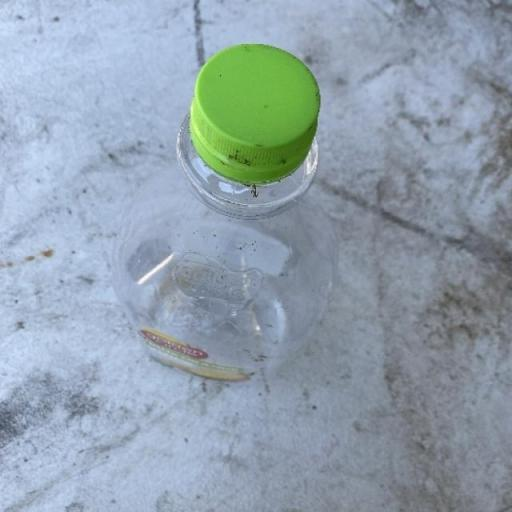plastic: (110, 41, 339, 382)
